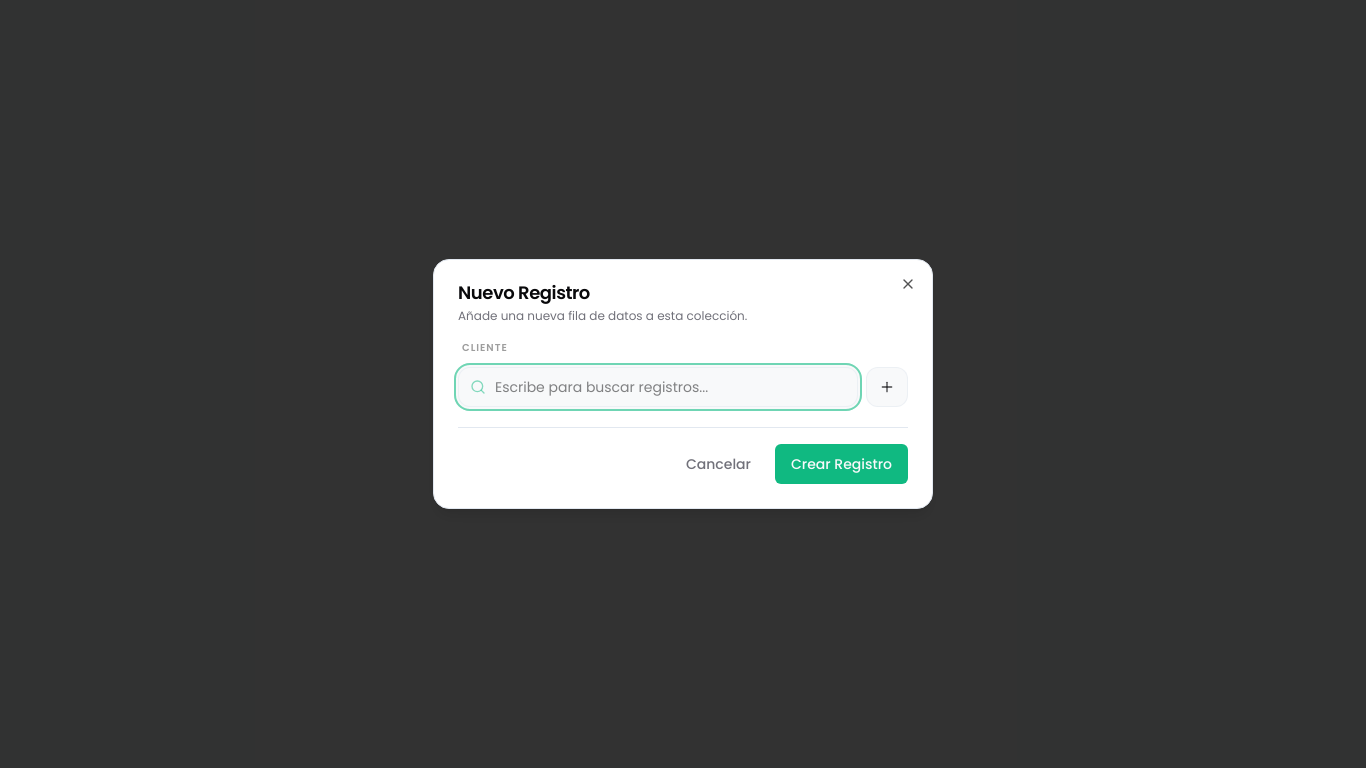
RecordFormDialog › shows quick create actions when relation config and create permission are available
Expected: the button named "Nuevo en Clientes" is shown, [866,367,908,407]
In the field with placeholder "Escribe para buscar registros...": (658, 387) [458,367,858,407], type "Acme"
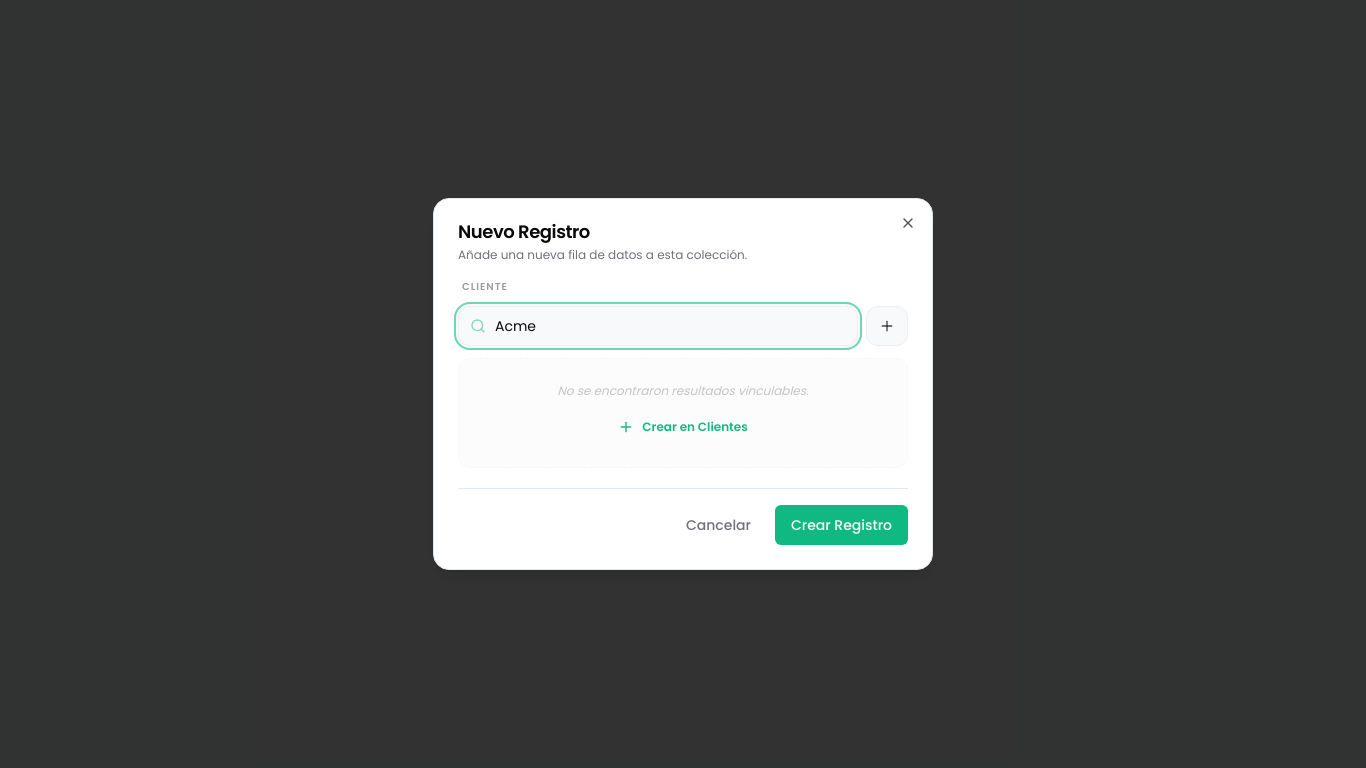
Expected: the button "Crear en Clientes" is shown, [606,411,760,443]
